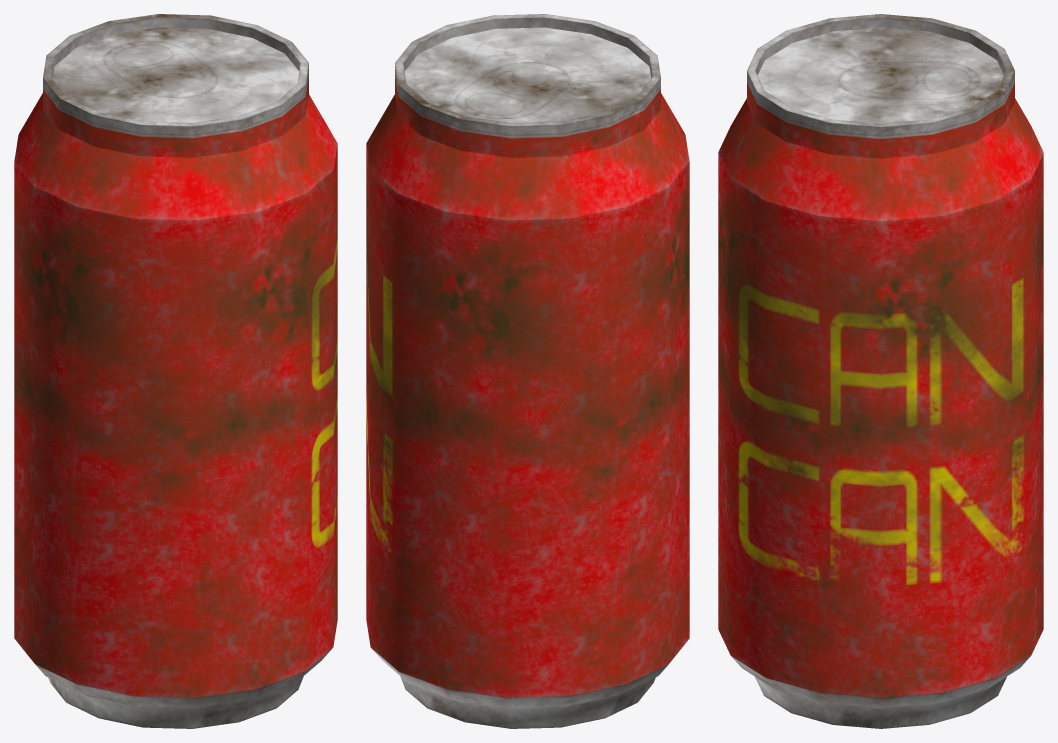
Rendered from CanLowGrade.fbx.
The picture shows the model from 3 angles, left to right: view 1: azimuth 30°, elevation 25°; view 2: azimuth 150°, elevation 25°; view 3: azimuth 270°, elevation 25°; orthographic projection.
Parts seen in each view (by area): view 1: Can_Low; view 2: Can_Low; view 3: Can_Low.
Part boxes in pixels (x1=…): Can_Low: x1=14, y1=14, x2=337, y2=728; Can_Low: x1=366, y1=14, x2=689, y2=728; Can_Low: x1=718, y1=14, x2=1043, y2=728.
Bounding box in the file's own units: 173 × 355 × 173.
Materials: 1 (1 with a texture image).
